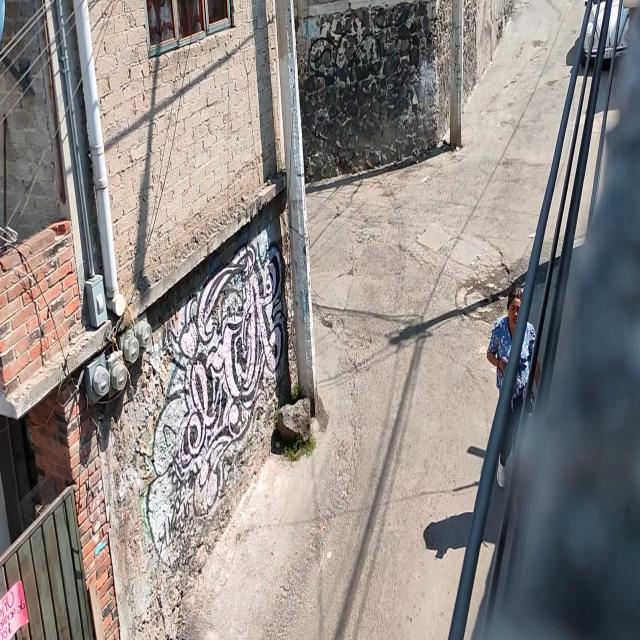adult: (485, 286, 542, 494)
